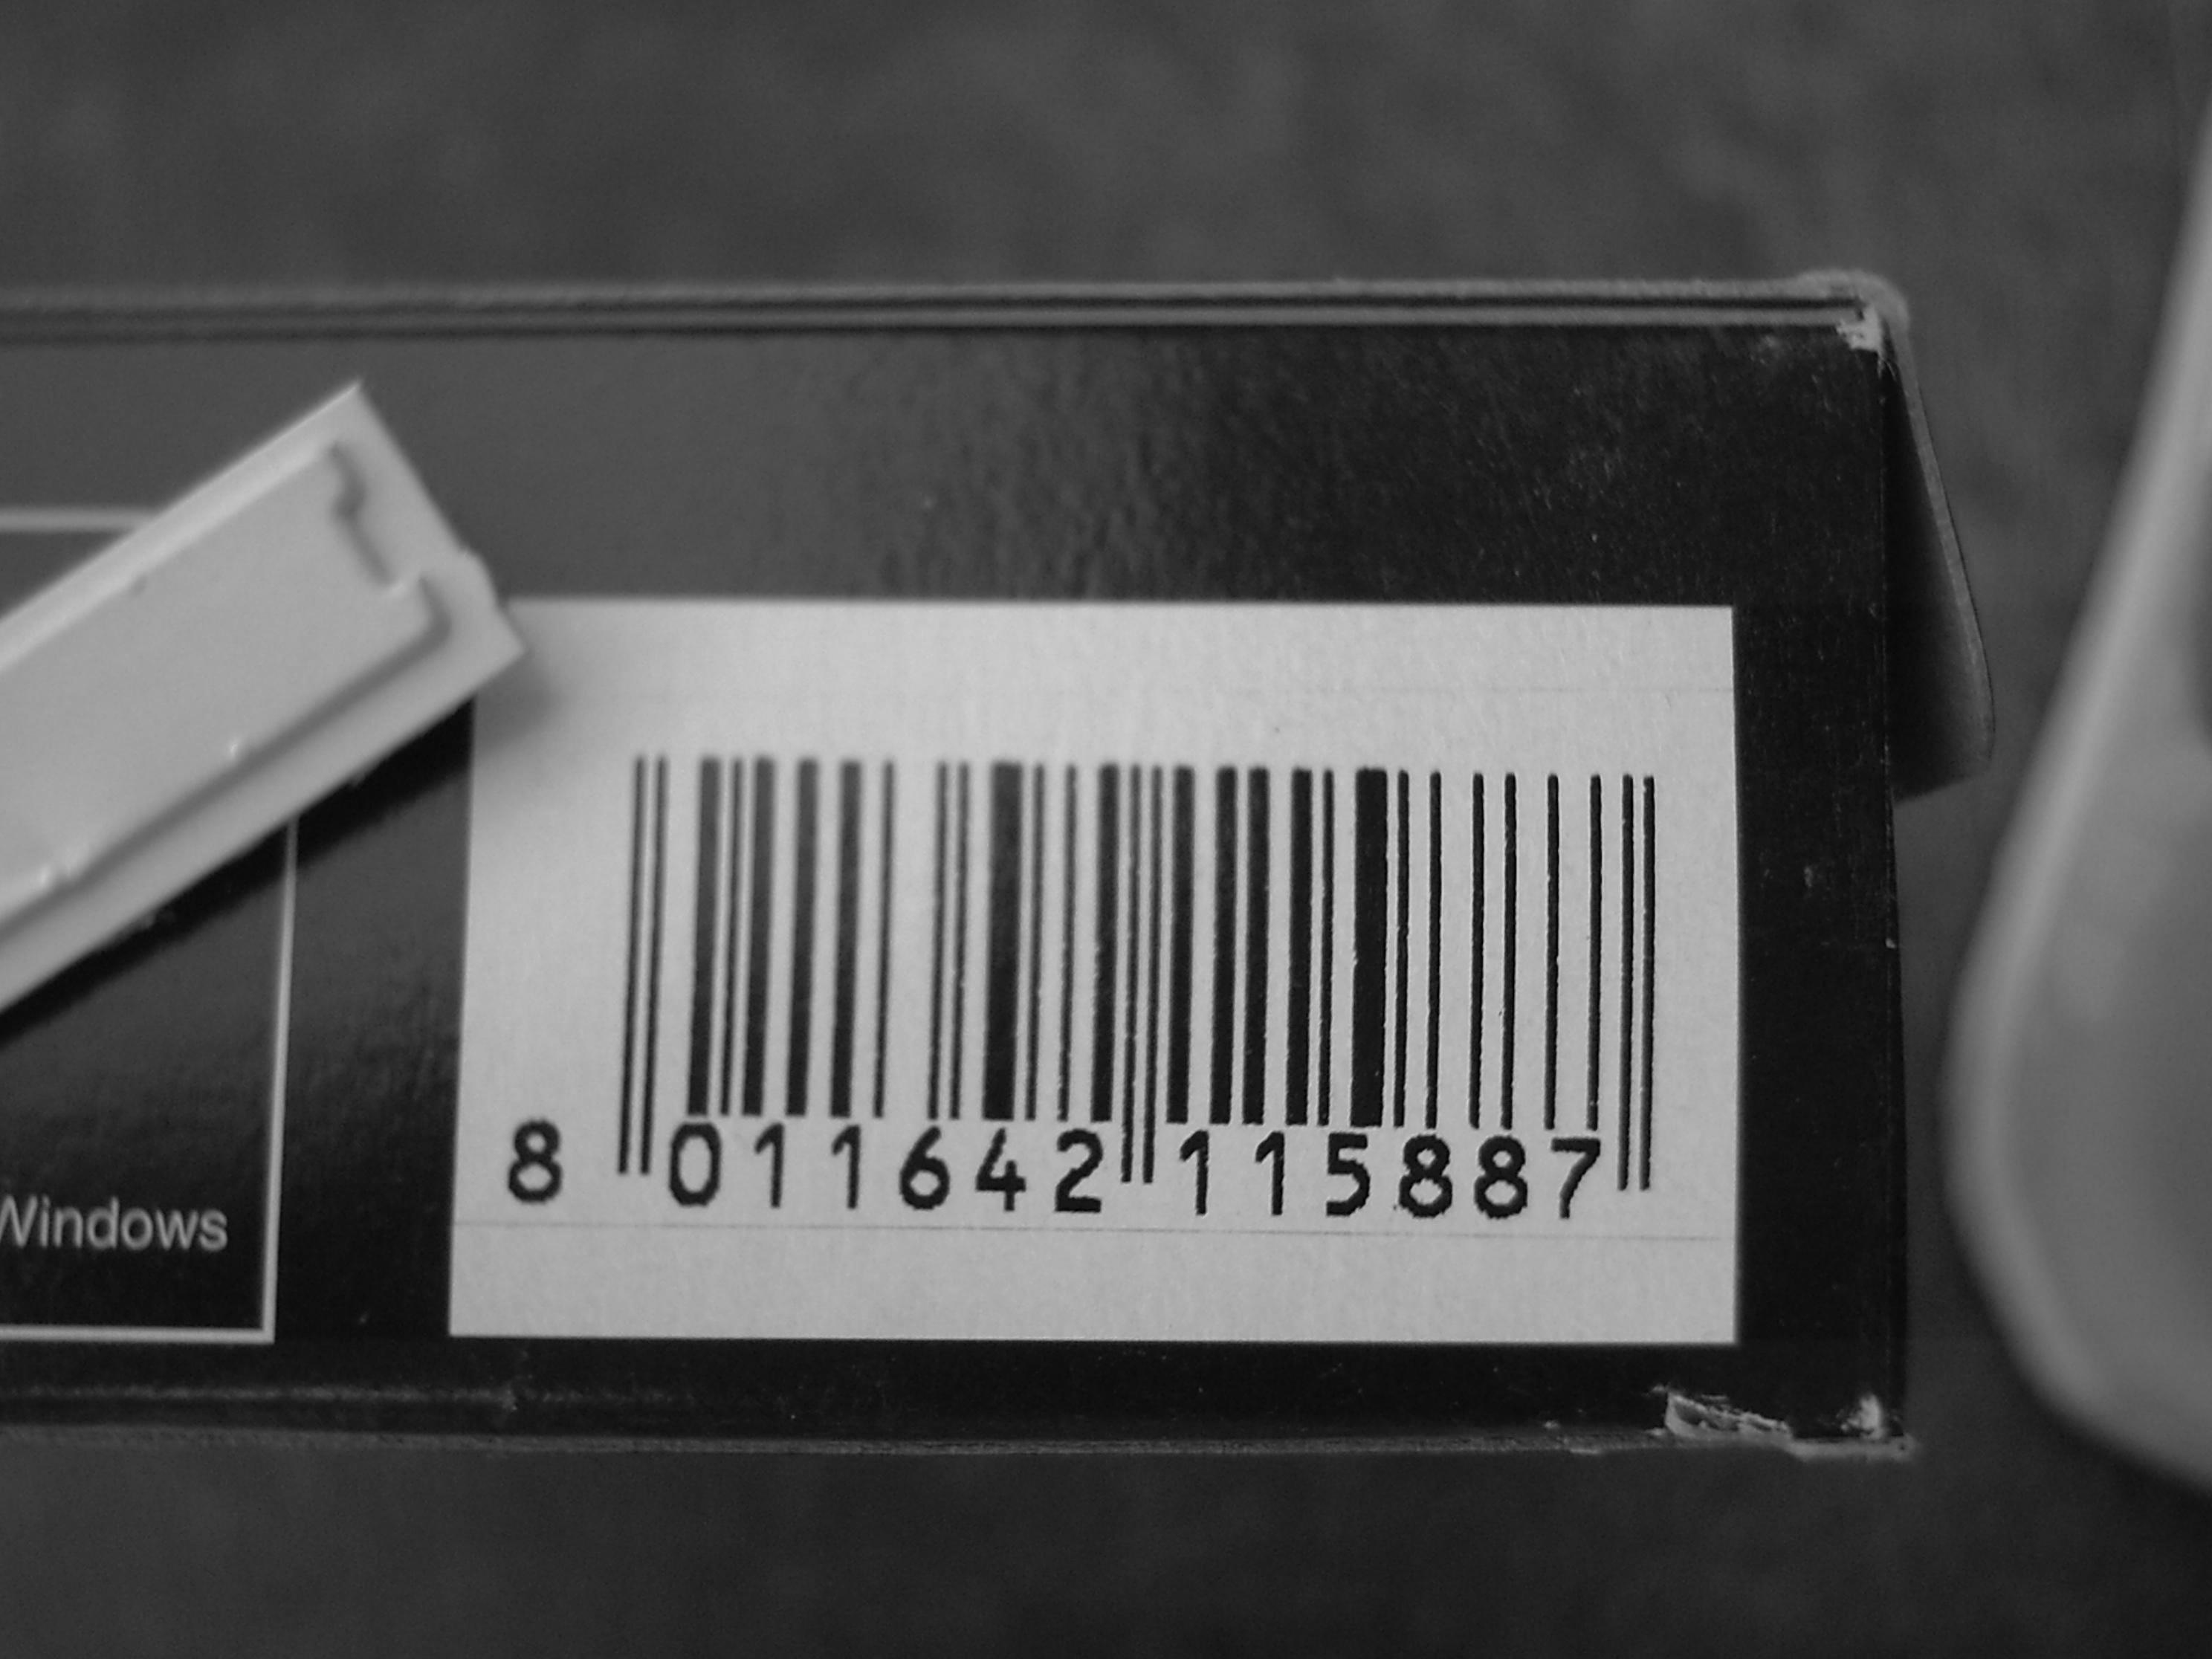Barcode: (595, 705, 1704, 1246)
